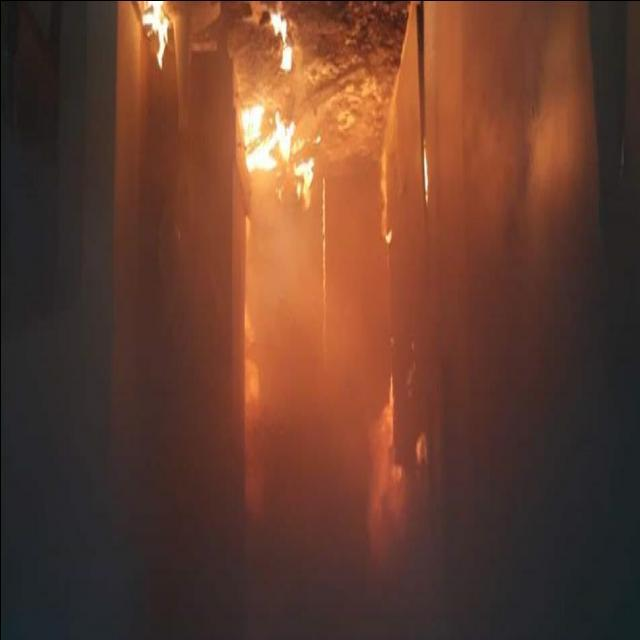Fire: (239, 99, 314, 204), (136, 0, 174, 70), (268, 1, 294, 76)
